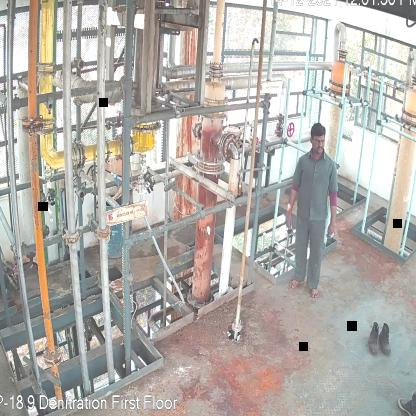no_shoes: (287, 278, 305, 289), (308, 287, 319, 301)
shoes: (367, 321, 383, 356), (380, 324, 392, 354)
